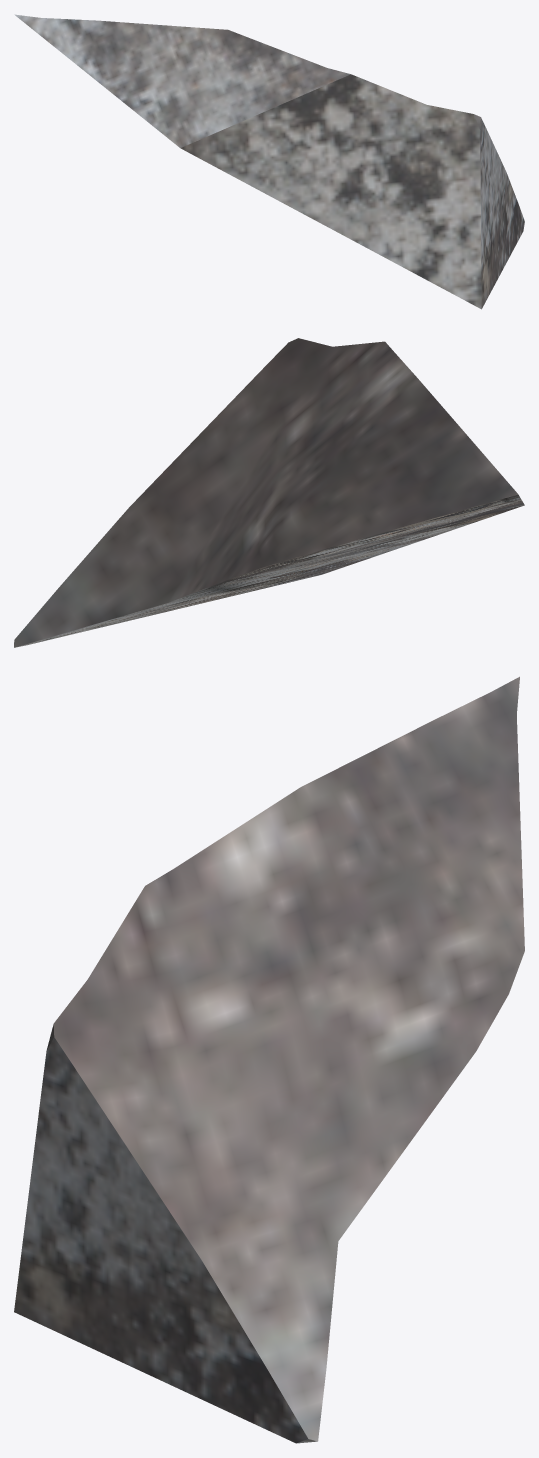
Rendered from Asteroid_Large_001_02_006_03_010.fbx.
3 views of the same model, one above another, from view 1: azimuth 30°, elevation 25°; view 2: azimuth 150°, elevation 25°; view 3: azimuth 270°, elevation 25° (orthographic). The views are drawn at different scales.
Parts seen in each view (by area): view 1: Asteroid_Large_001_02_006_03_010; view 2: Asteroid_Large_001_02_006_03_010; view 3: Asteroid_Large_001_02_006_03_010.
Part boxes in pixels (x1=…): Asteroid_Large_001_02_006_03_010: x1=14, y1=14, x2=524, y2=309; Asteroid_Large_001_02_006_03_010: x1=14, y1=338, x2=524, y2=647; Asteroid_Large_001_02_006_03_010: x1=14, y1=676, x2=524, y2=1443.
Size of the model in its own units: 7.37 by 4.32 by 4.66.
